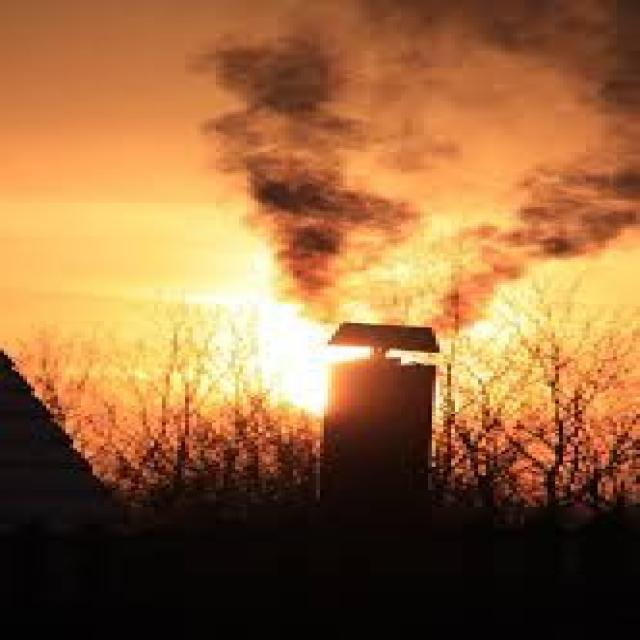Smoke: (188, 0, 640, 339)
